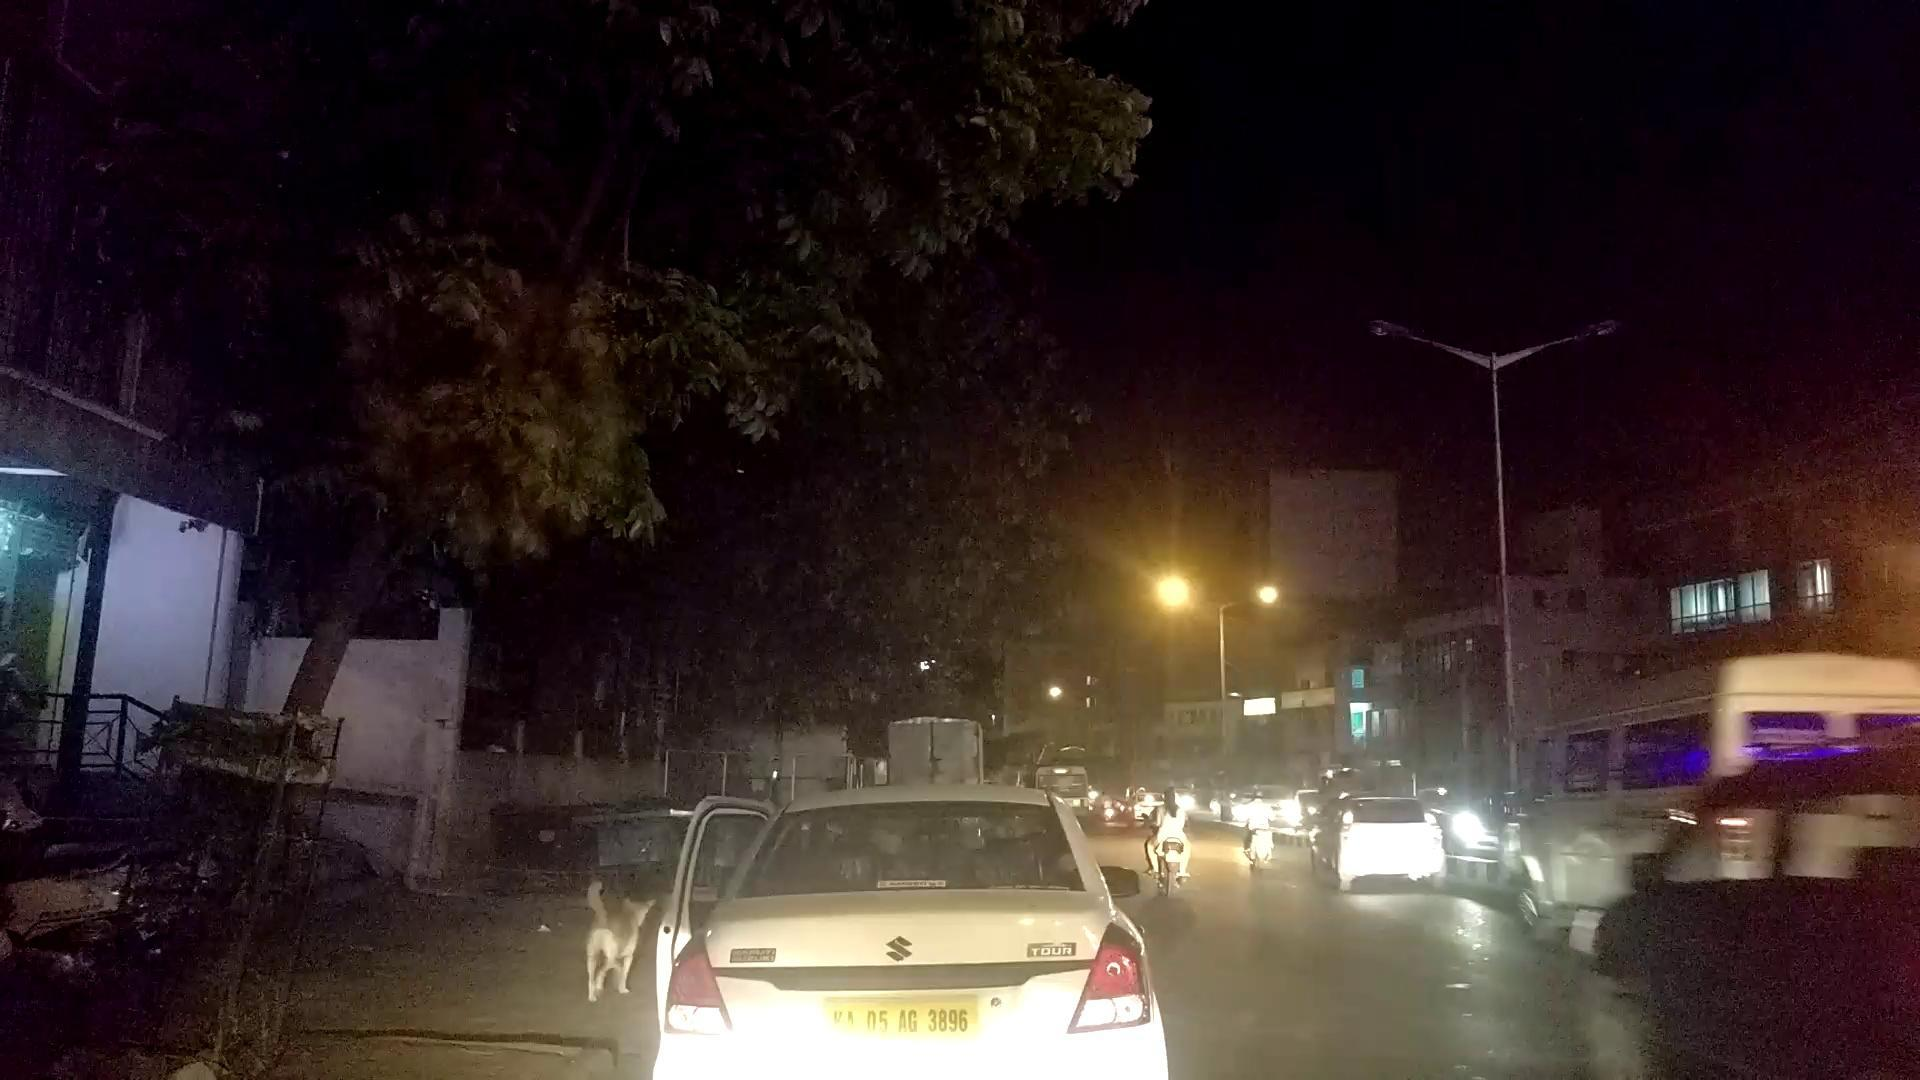on: (840, 382, 1614, 811)
